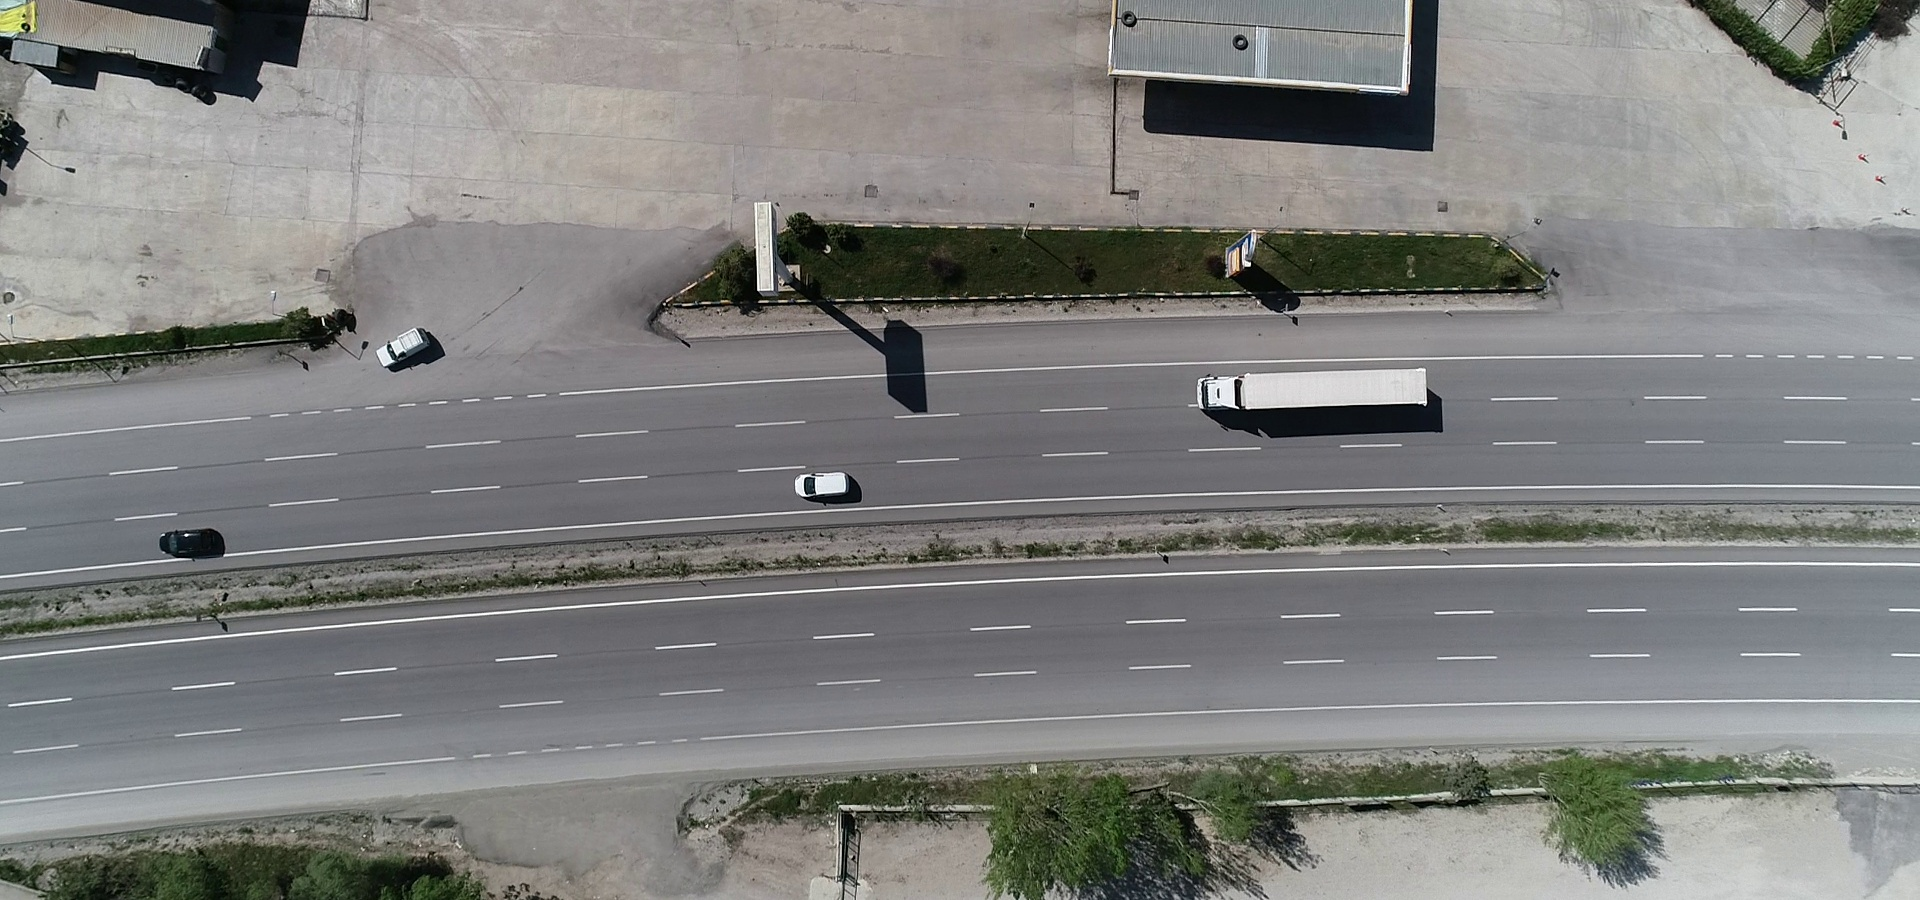araba: (158, 524, 233, 560), (792, 467, 864, 501)
kamyon: (1191, 359, 1433, 418)
kamyonet: (371, 324, 442, 376)
